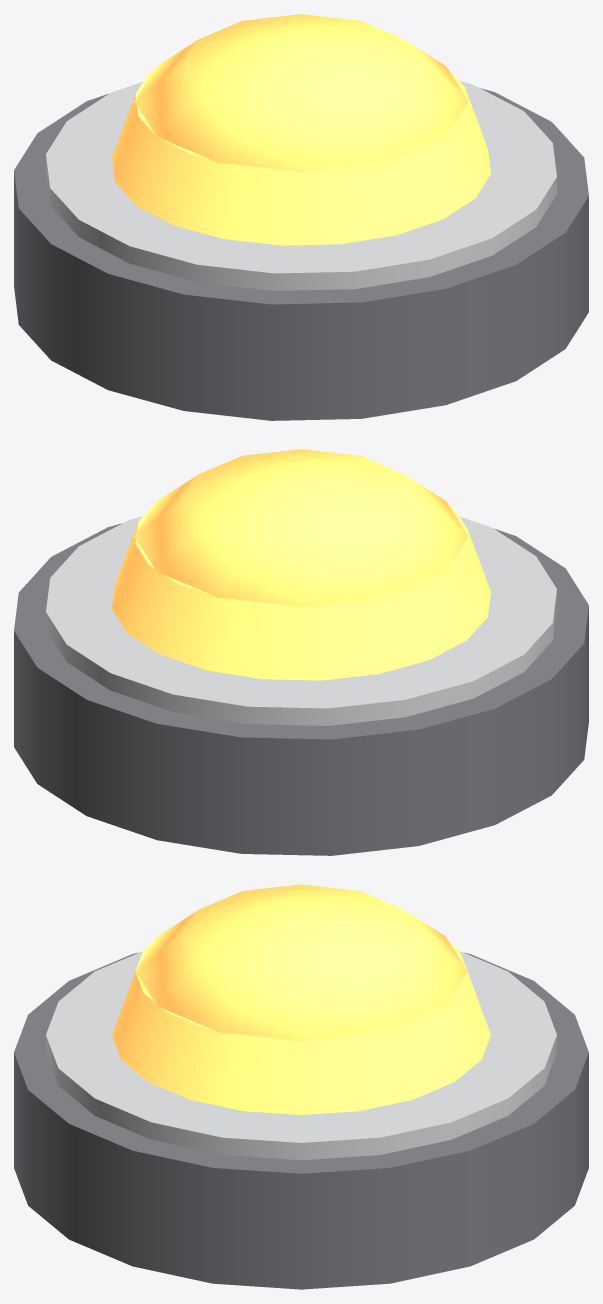
Rendered from btn-day.glb.
The picture shows the model from 3 angles, top to bottom: view 1: azimuth 30°, elevation 25°; view 2: azimuth 150°, elevation 25°; view 3: azimuth 270°, elevation 25°; orthographic projection.
Visible parts, largest first — view 1: base, button; view 2: base, button; view 3: base, button.
Boxes of the visible parts, <box> form: base: <box>14,81,588,420</box>; button: <box>112,14,490,245</box>; base: <box>14,516,588,855</box>; button: <box>112,449,490,680</box>; base: <box>14,951,588,1289</box>; button: <box>112,884,490,1114</box>.
Size of the model in its own units: 0.09 by 0.0431 by 0.09.
